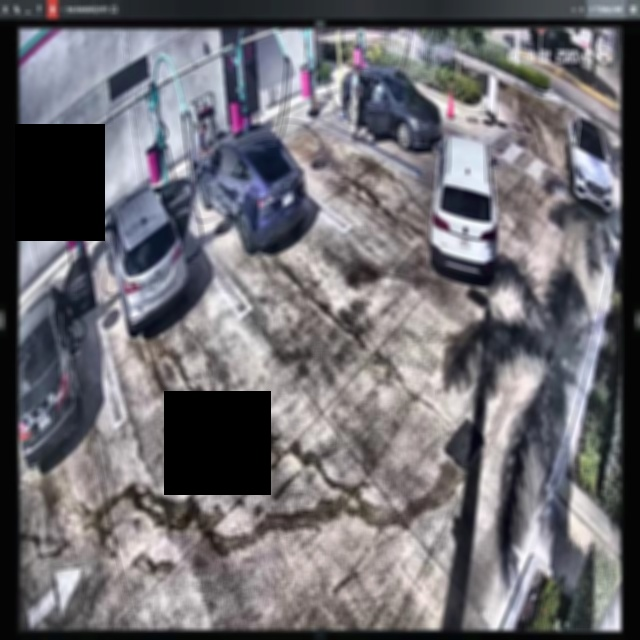Car: (193, 121, 305, 248), (104, 176, 197, 322), (341, 58, 438, 163), (428, 135, 497, 276)
